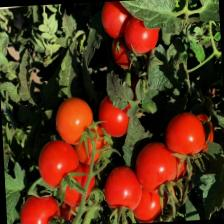tomato: (132, 138, 181, 196), (162, 110, 208, 168), (52, 94, 100, 148), (35, 137, 81, 191), (102, 163, 143, 223), (96, 89, 134, 138), (122, 13, 160, 56), (18, 190, 63, 224), (99, 0, 132, 41)
